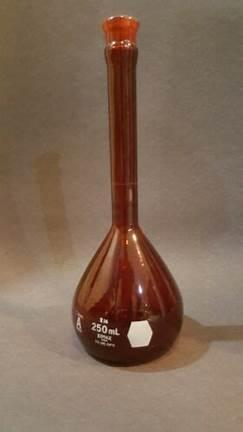Volumetric flask: (59, 10, 190, 372)
